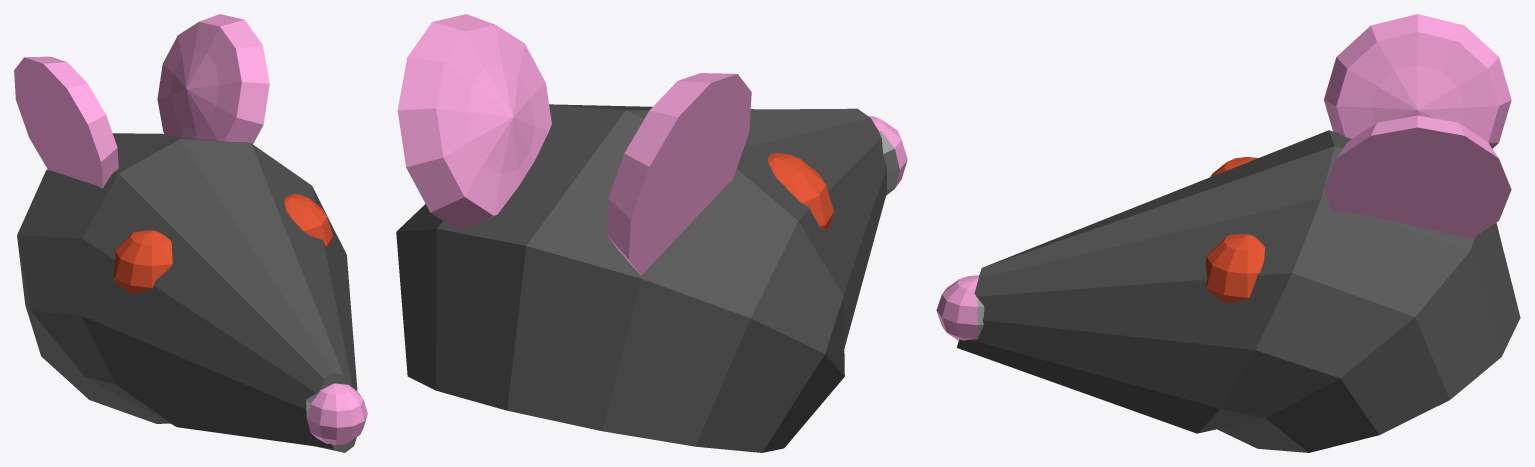
The model's file is rat_head.gltf.
3 renders of one model, left to right at view 1: azimuth 30°, elevation 25°; view 2: azimuth 150°, elevation 25°; view 3: azimuth 270°, elevation 25°, orthographic. The views are drawn at different scales.
Visible parts, largest first — view 1: rat; view 2: rat; view 3: rat.
Part boxes in pixels (x1,y1,x2,y2): rat: (14, 14, 367, 452); rat: (396, 14, 907, 452); rat: (936, 14, 1520, 452).
Bounding box in the file's own units: 0.1 × 0.1045 × 0.1555.
1 material, 1 textured.
